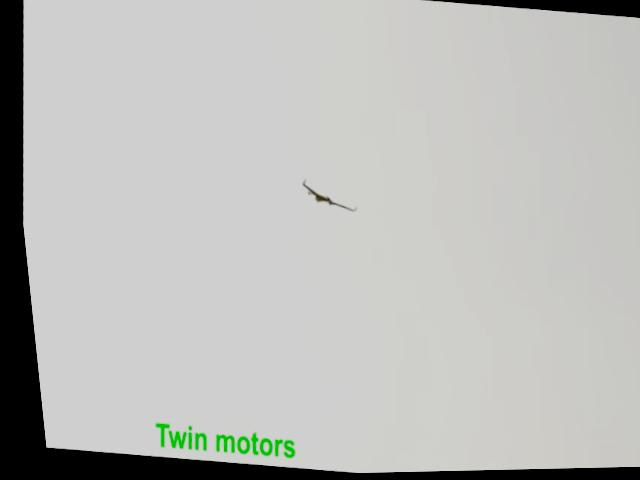plane: (294, 181, 356, 215)
